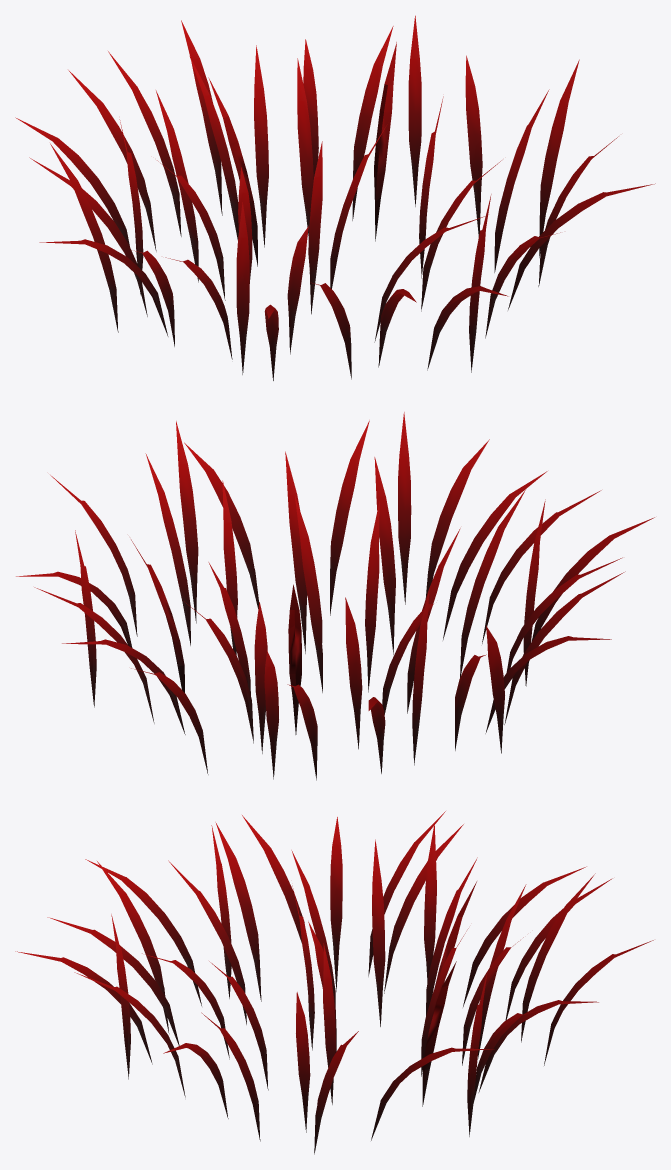
File: basicgrass.fbx
The picture shows the model from 3 angles, top to bottom: view 1: azimuth 30°, elevation 25°; view 2: azimuth 150°, elevation 25°; view 3: azimuth 270°, elevation 25°; orthographic projection. The views are drawn at different scales.
Visible parts, largest first — view 1: Plane.021; view 2: Plane.021; view 3: Plane.021.
Boxes of the visible parts, x1=… form: Plane.021: x1=15, y1=15, x2=655, y2=380; Plane.021: x1=16, y1=412, x2=654, y2=780; Plane.021: x1=15, y1=811, x2=653, y2=1154.
Size of the model in its own units: 623 by 199 by 674.
